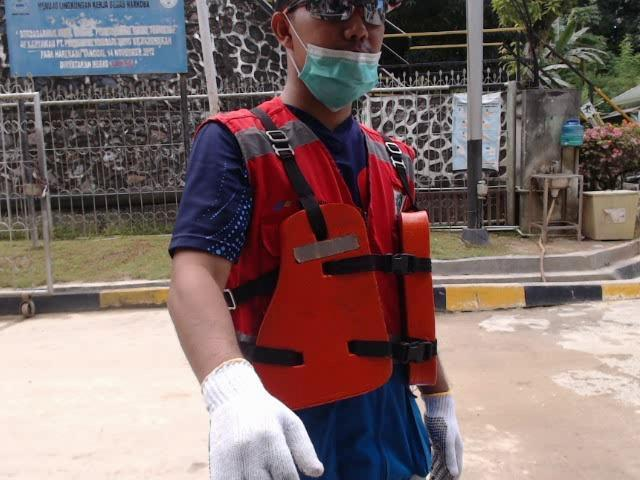vest: (254, 208, 441, 410)
